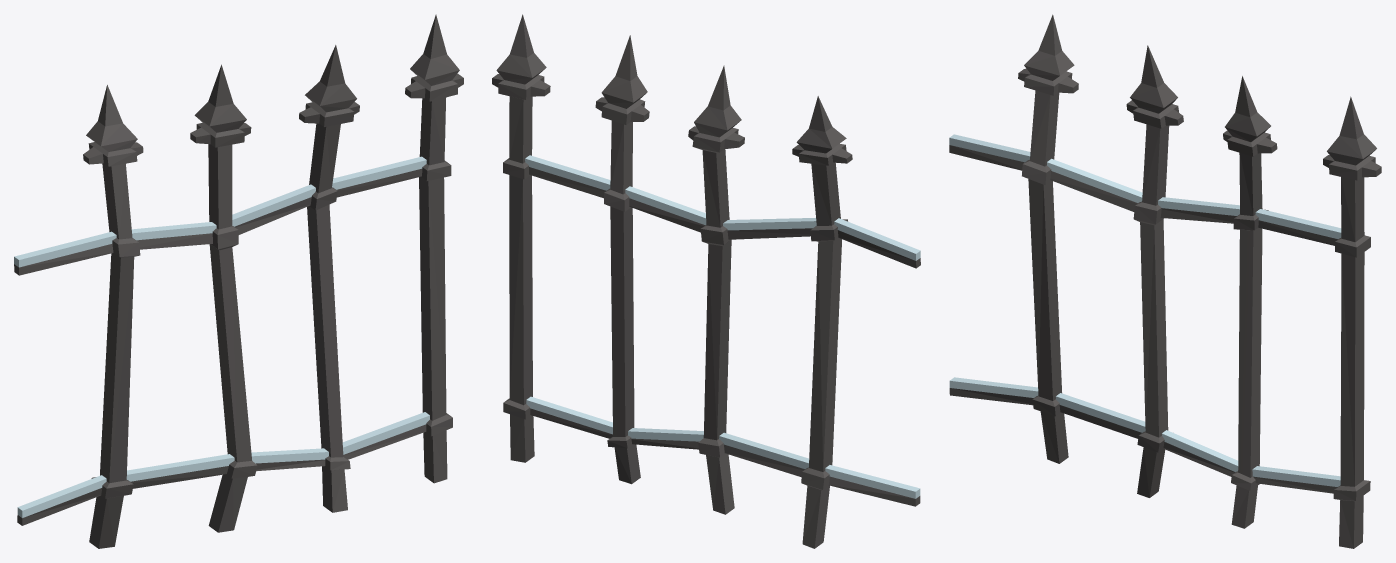
Rendered from SM_Prop_Fence_02_Snow.glb.
The picture shows the model from 3 angles, left to right: view 1: azimuth 30°, elevation 25°; view 2: azimuth 150°, elevation 25°; view 3: azimuth 330°, elevation 25°; orthographic projection. The views are drawn at different scales.
Visible parts, largest first — view 1: SM_Prop_Fence_02_Snow; view 2: SM_Prop_Fence_02_Snow; view 3: SM_Prop_Fence_02_Snow.
Boxes of the visible parts, x1=… form: SM_Prop_Fence_02_Snow: x1=14, y1=14, x2=463, y2=548; SM_Prop_Fence_02_Snow: x1=492, y1=14, x2=920, y2=548; SM_Prop_Fence_02_Snow: x1=949, y1=14, x2=1381, y2=548.
Size of the model in its own units: 1.54 by 1.54 by 0.1987.
Materials: 1 (1 with a texture image).
